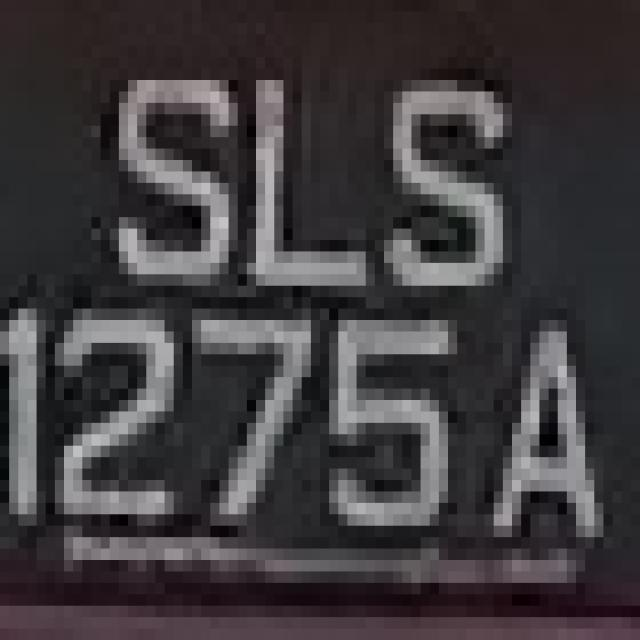2: (46, 274, 192, 549)
5: (329, 286, 448, 537)
7: (156, 263, 329, 537)
A: (466, 308, 613, 628)
L: (228, 23, 366, 297)
S: (73, 45, 238, 308), (366, 57, 521, 332)
